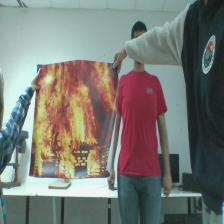fire-poster: (29, 61, 118, 179)
